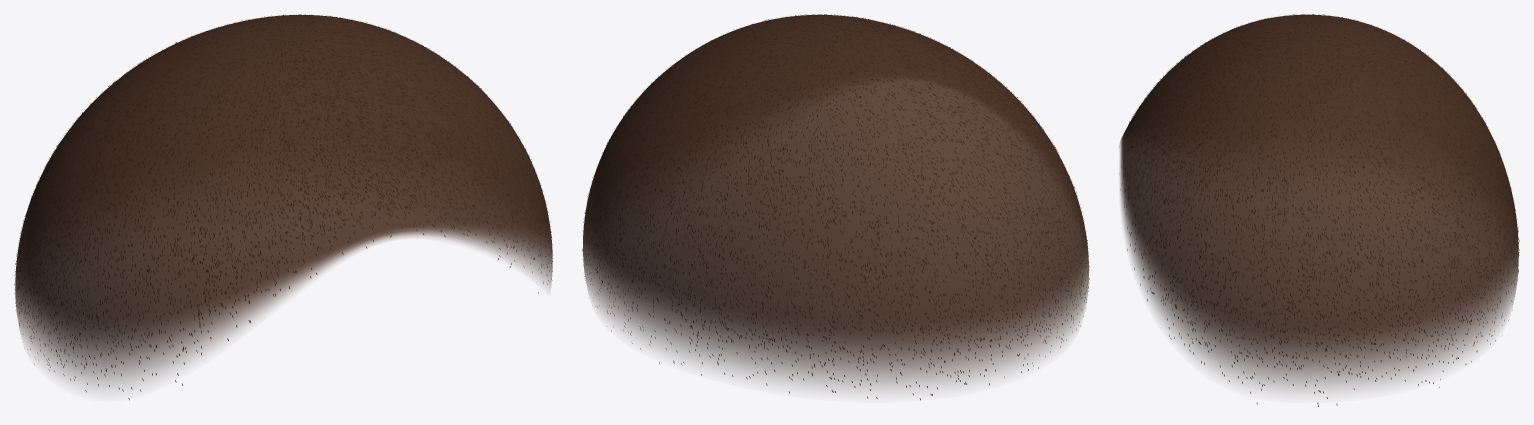
File: Masculine-buzz-covered-hair.glb
3 renders of one model, left to right at view 1: azimuth 30°, elevation 25°; view 2: azimuth 150°, elevation 25°; view 3: azimuth 270°, elevation 25°, orthographic. The views are drawn at different scales.
Parts seen in each view (by area): view 1: 226 hair / Hair / cropped density227, 226 hair / Hair / cropped grain227; view 2: 226 hair / Hair / cropped density227, 226 hair / Hair / cropped grain227; view 3: 226 hair / Hair / cropped density227, 226 hair / Hair / cropped grain227.
Boxes of the visible parts, left/top/right/bottom form: 226 hair / Hair / cropped density227: left=15, top=15, right=552, bottom=387; 226 hair / Hair / cropped grain227: left=14, top=14, right=553, bottom=400; 226 hair / Hair / cropped density227: left=583, top=14, right=1088, bottom=389; 226 hair / Hair / cropped grain227: left=582, top=14, right=1089, bottom=400; 226 hair / Hair / cropped density227: left=1120, top=14, right=1518, bottom=390; 226 hair / Hair / cropped grain227: left=1119, top=14, right=1519, bottom=406.
Size of the model in its own units: 0.9708 by 0.5786 by 0.776.
